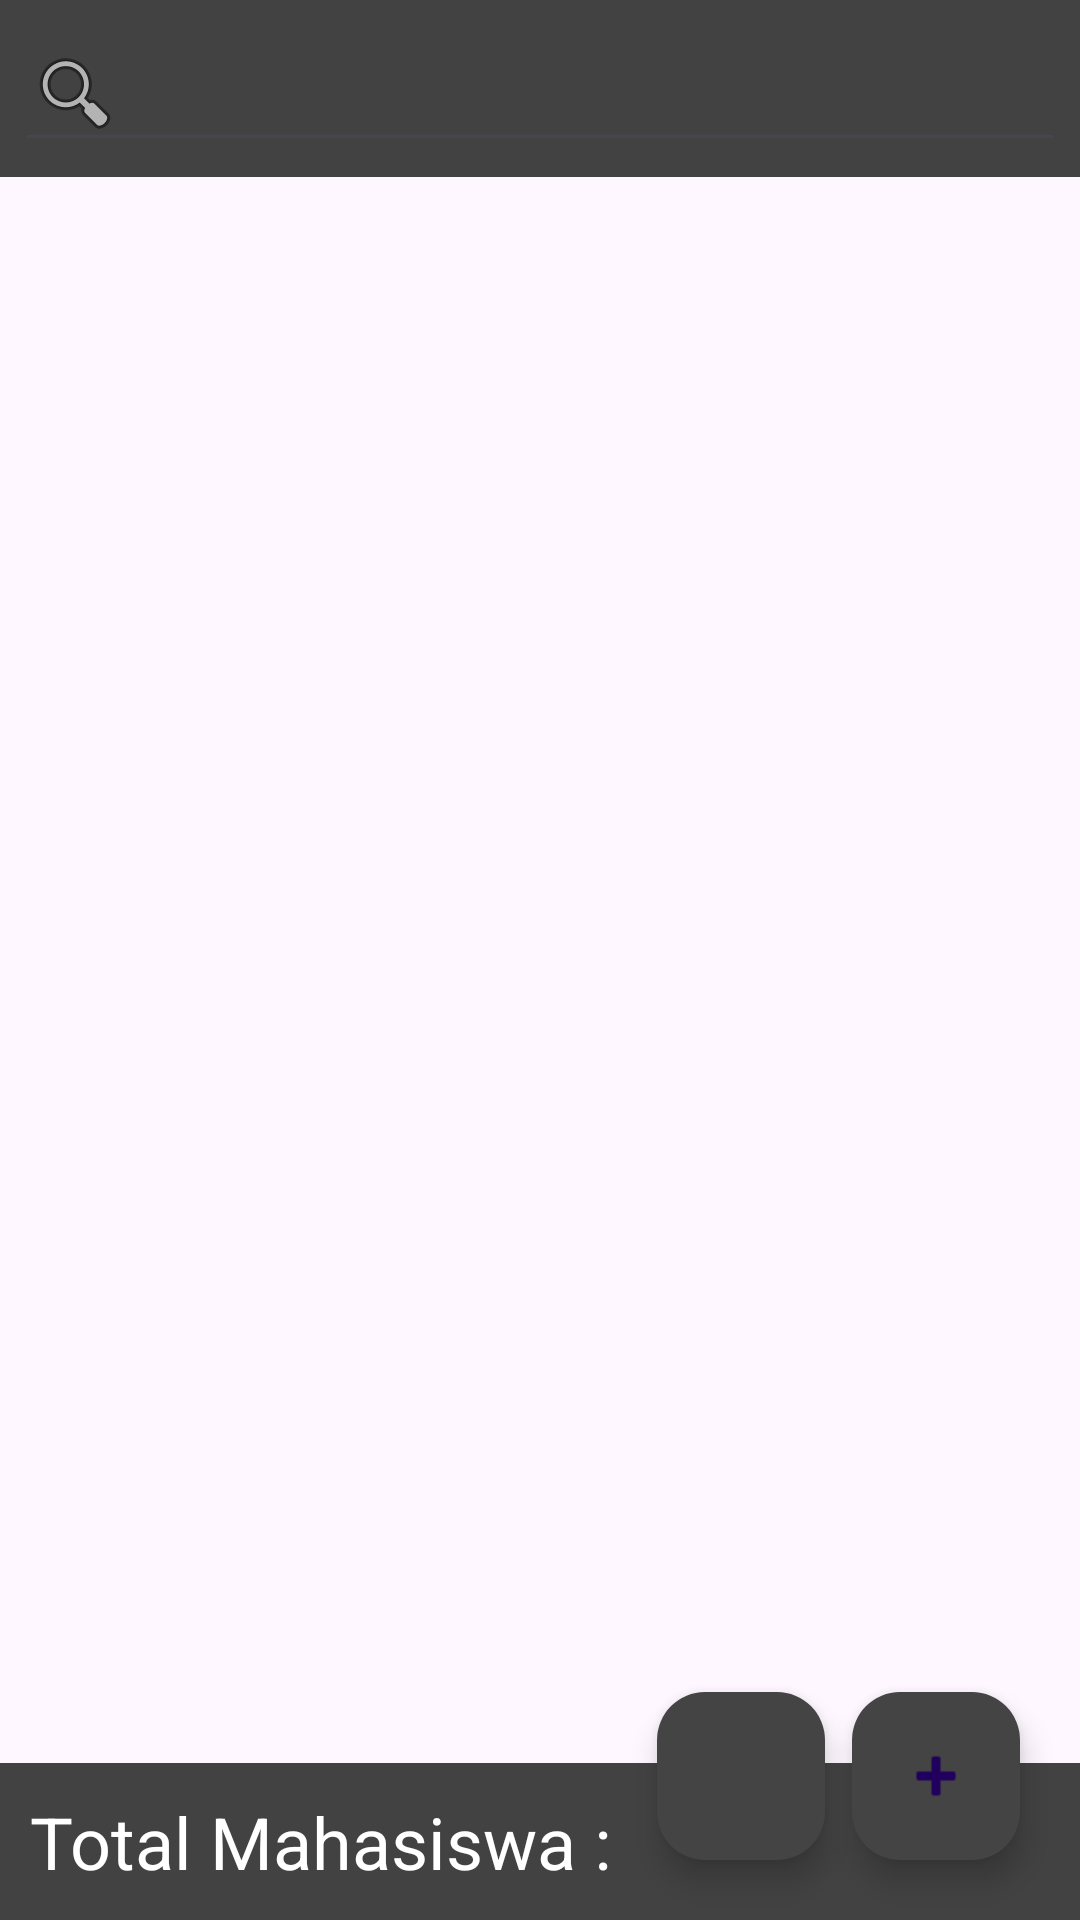

Icon click points for this 1080x1920 phone screenshot, format point (x, y):
Record baru: point (936, 1776)
